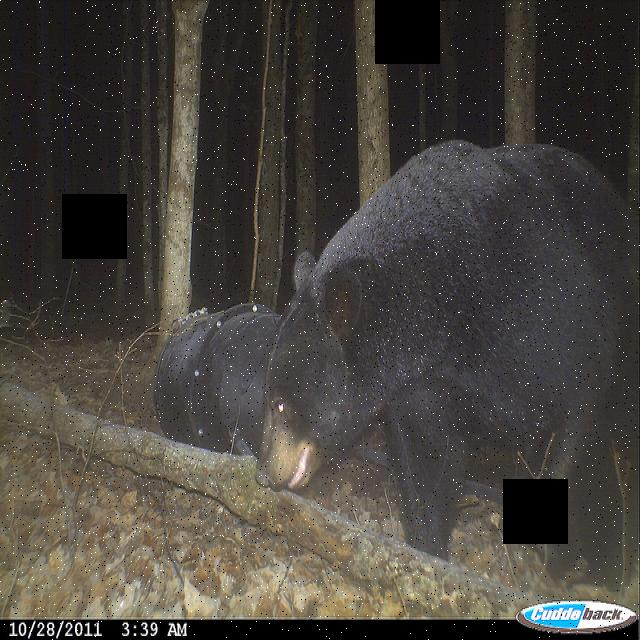Bear: (258, 110, 640, 562)
